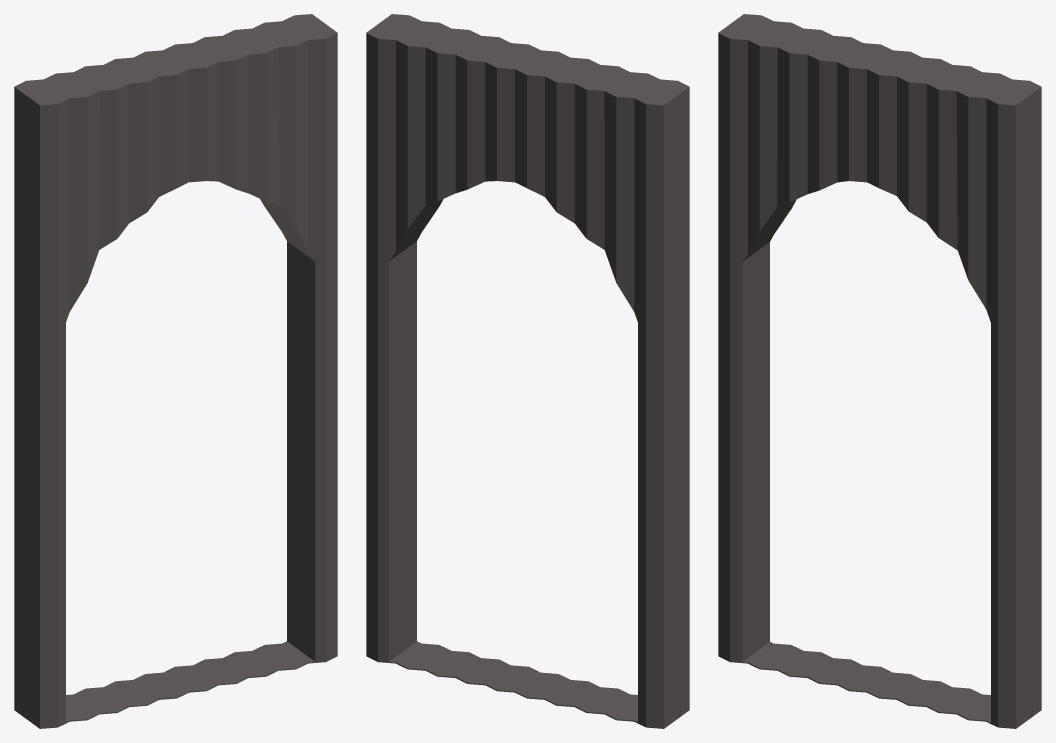
Rendered from CorrugatedMetalDoorframe.glb.
3 views of the same model, side by side, from view 1: azimuth 30°, elevation 25°; view 2: azimuth 150°, elevation 25°; view 3: azimuth 330°, elevation 25° (orthographic).
Visible parts, largest first — view 1: wall_corregated_door; view 2: wall_corregated_door; view 3: wall_corregated_door.
Boxes of the visible parts, x1=… form: wall_corregated_door: x1=14, y1=14, x2=337, y2=728; wall_corregated_door: x1=366, y1=14, x2=689, y2=728; wall_corregated_door: x1=718, y1=14, x2=1041, y2=728.
Size of what is drawn, in the model's own units: 2 by 4 by 0.3712.
1 material, 1 textured.
